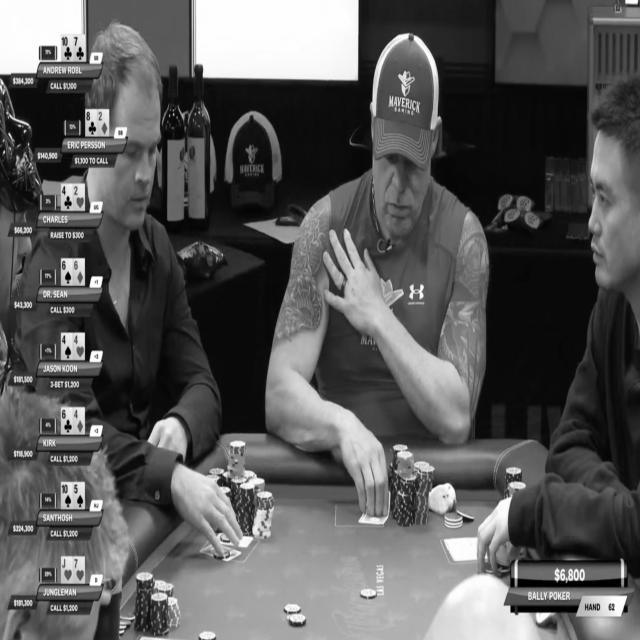10C: (60, 35, 73, 60)
10S: (60, 483, 74, 507)
2D: (98, 109, 110, 136)
2H: (73, 184, 85, 209)
4C: (60, 183, 73, 210)
4D: (72, 406, 86, 434)
4H: (72, 332, 85, 358)
4S: (61, 334, 74, 358)
5S: (74, 482, 85, 511)
6C: (61, 409, 73, 433)
6D: (72, 259, 85, 285)
6S: (60, 258, 74, 286)
7C: (73, 33, 85, 63)
7H: (74, 557, 85, 584)
8C: (85, 110, 97, 135)
JH: (62, 556, 72, 584)
